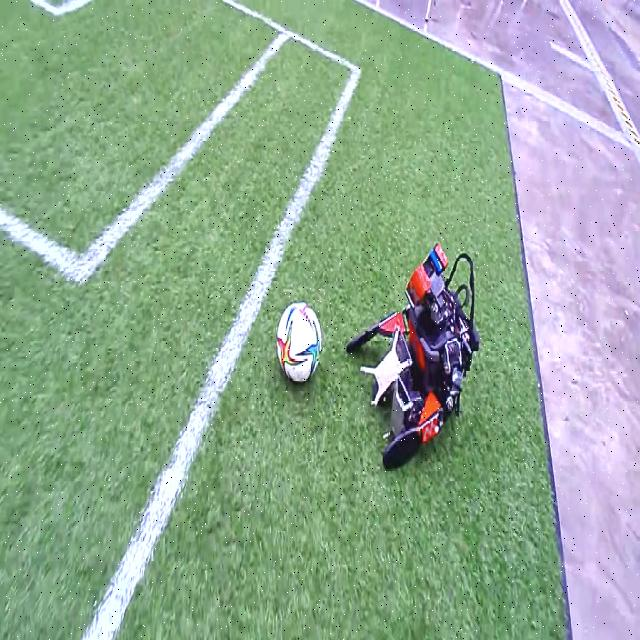ball: (276, 302, 321, 381)
